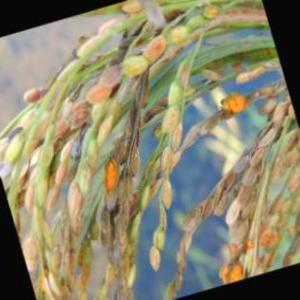Leaf_Scald: (104, 154, 130, 194), (224, 84, 254, 114), (214, 260, 249, 285)
